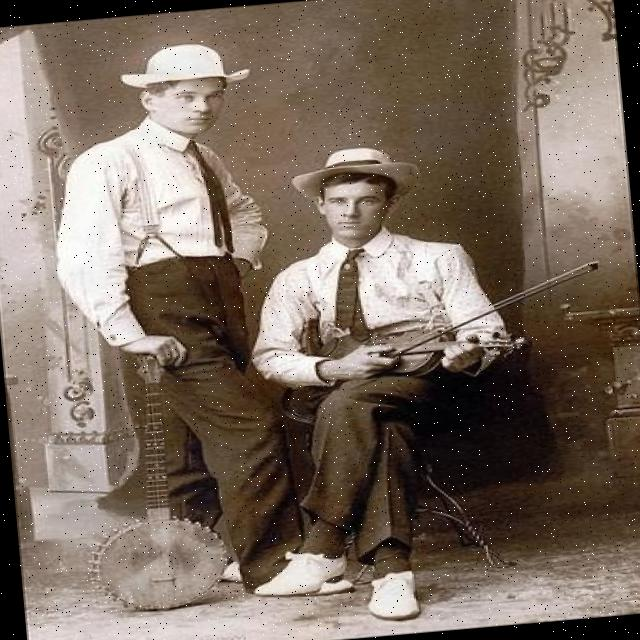violin: (314, 316, 536, 381)
